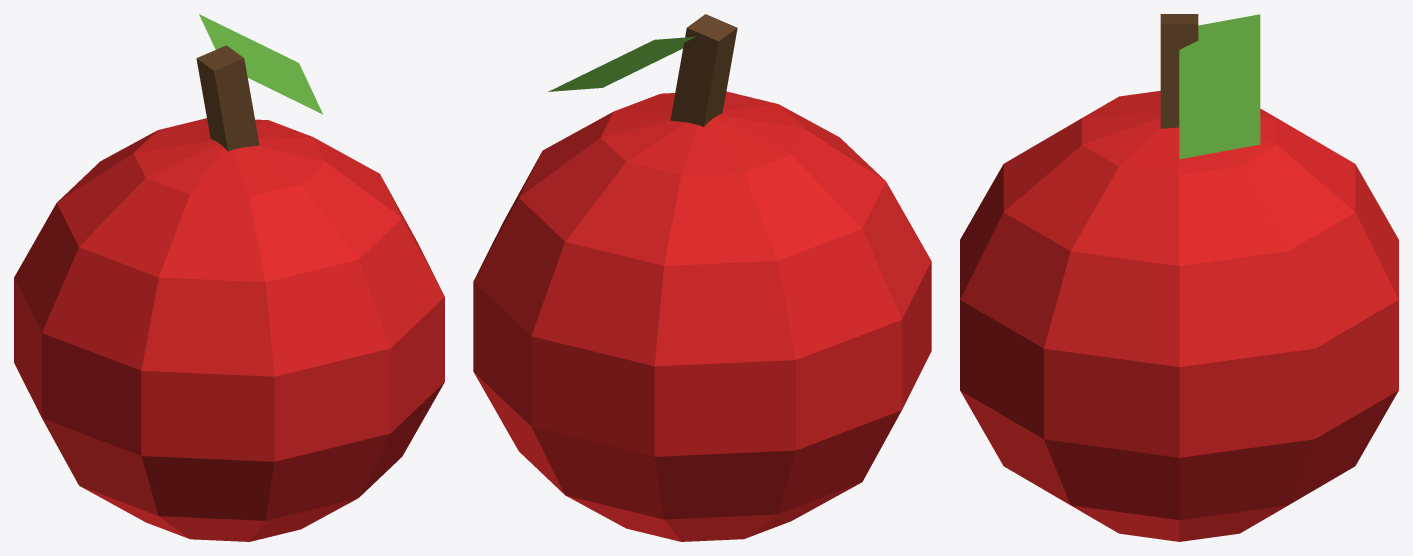
File: apple_item.obj
3 renders of one model, left to right at view 1: azimuth 30°, elevation 25°; view 2: azimuth 150°, elevation 25°; view 3: azimuth 270°, elevation 25°, orthographic. The views are drawn at different scales.
Parts seen in each view (by area): view 1: item; view 2: item; view 3: item.
Part boxes in pixels (x1,y1,x2,y2): item: [14, 14, 444, 541]; item: [473, 14, 931, 541]; item: [960, 14, 1398, 541].
Size of the model in its own units: 0.429 by 0.5216 by 0.408.
